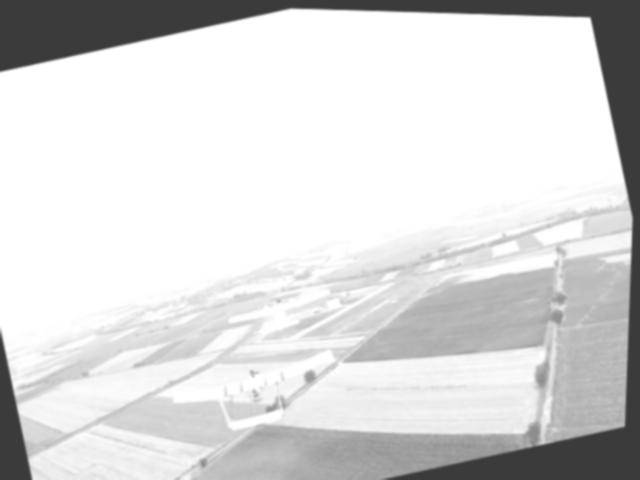hedef: (162, 332, 358, 459), (217, 262, 342, 352)
